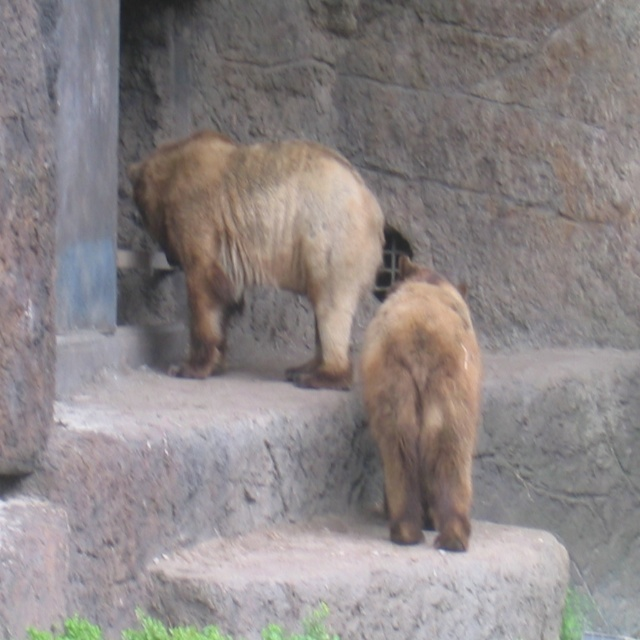Brown bear: (124, 126, 388, 391), (360, 253, 484, 549)
